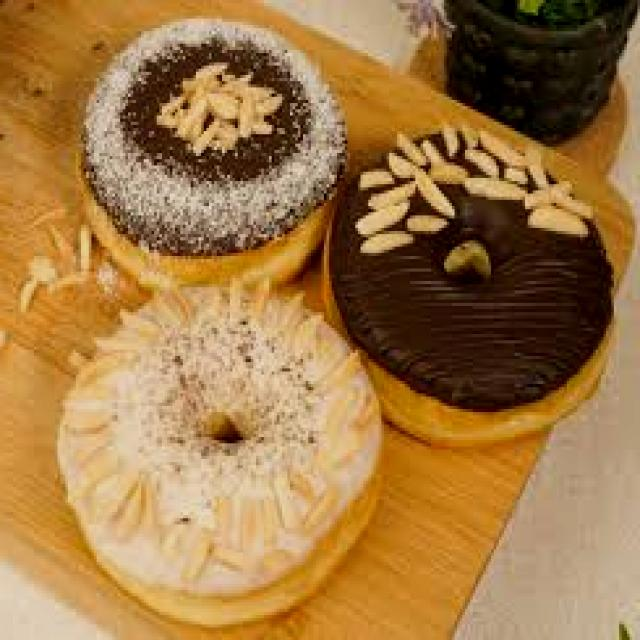donat: (55, 287, 384, 624), (327, 122, 616, 443), (78, 28, 350, 284)
